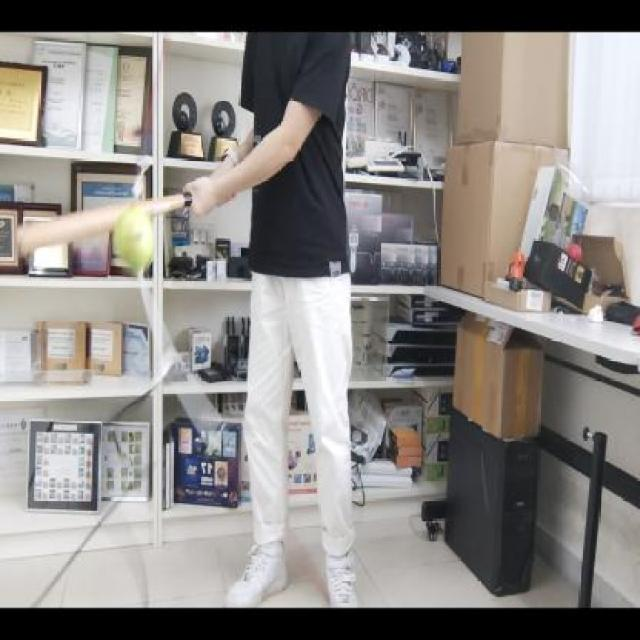baseball: (112, 205, 156, 269)
